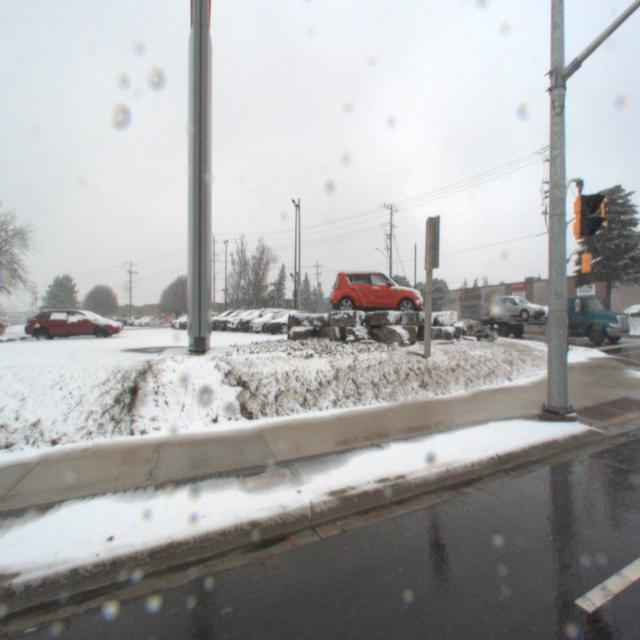Car: (328, 270, 426, 320), (19, 302, 121, 338), (260, 306, 328, 335), (245, 305, 305, 334), (232, 303, 290, 333), (222, 306, 276, 331), (212, 306, 264, 330), (136, 311, 164, 322)
Truck: (447, 284, 633, 349)
